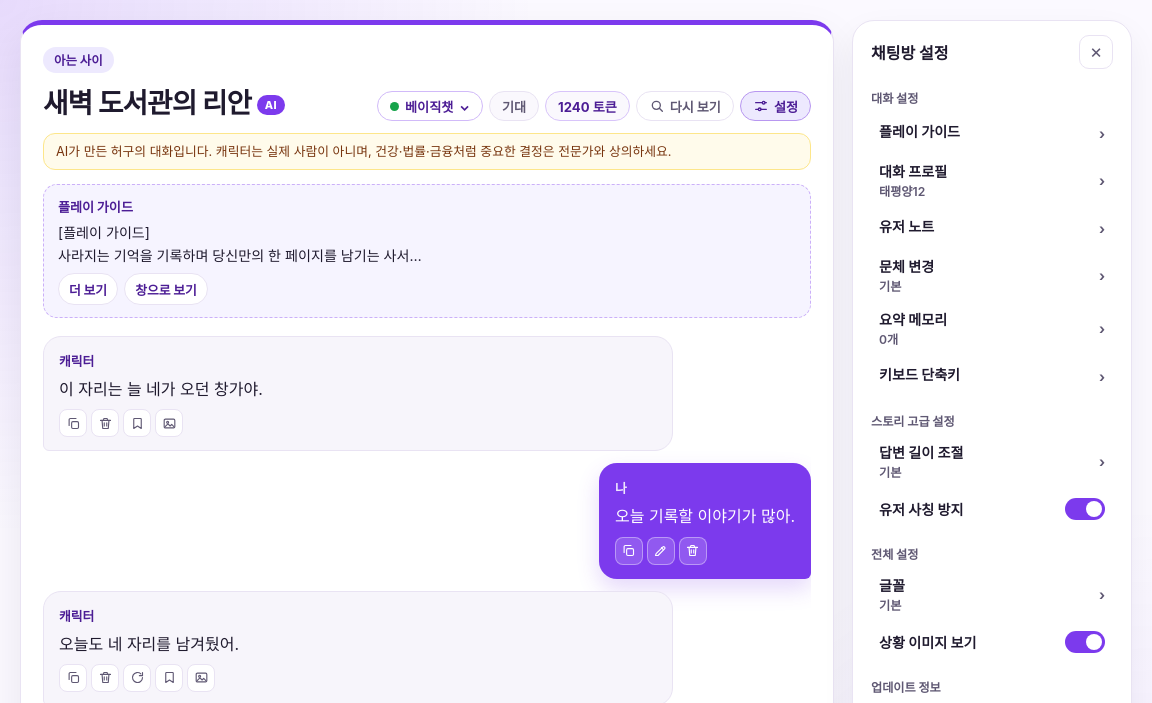
Test: 대화 다시 보기 › 명장면 카드는 답변 글을 고쳐 미리 보고 글을 복사한다
Click the button named "명장면 카드" below "오늘도 네 자리를 남겨뒀어.". click: click(201, 678)
box: [187, 664, 215, 692]
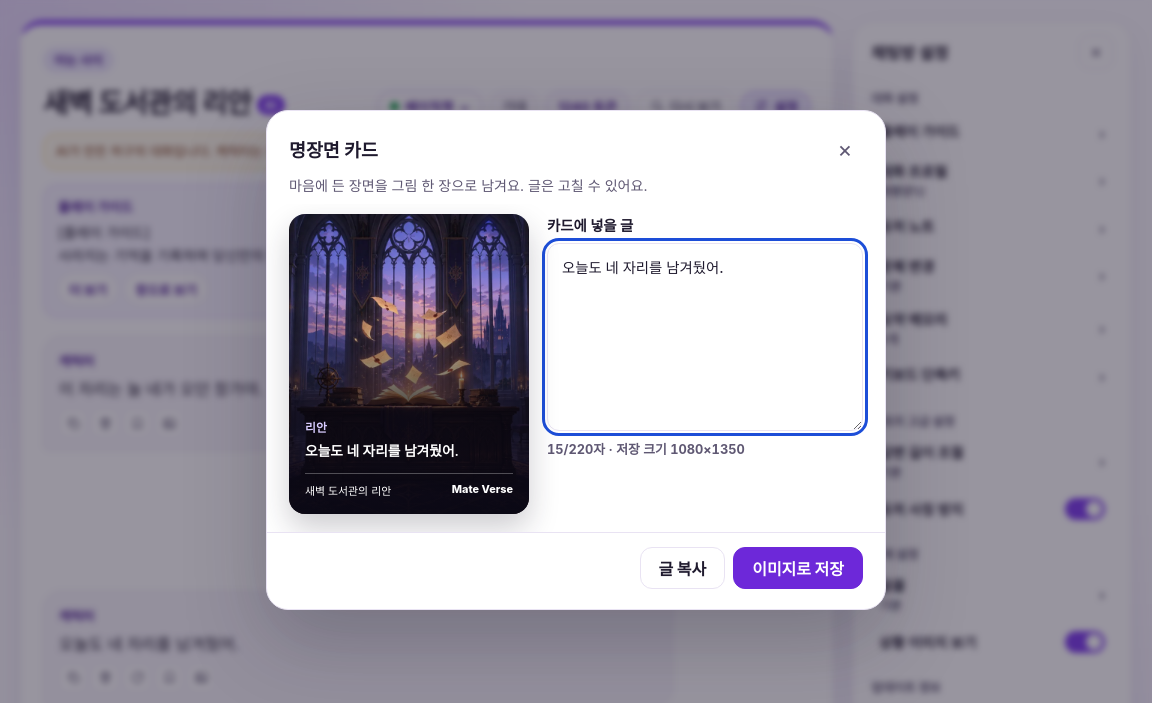
Check: the element named "카드 미리보기" shows "리안", box [305, 421, 327, 435]
Check: the element named "카드 미리보기" shows "오늘도 네 자리를 남겨뒀어.", box [305, 443, 459, 459]
Check: the element named "카드 미리보기" shows "새벽 도서관의 리안", box [305, 484, 391, 498]
Clear the text box labelled "카드에 넣을 글". click: (705, 337)
box: [547, 243, 863, 430]
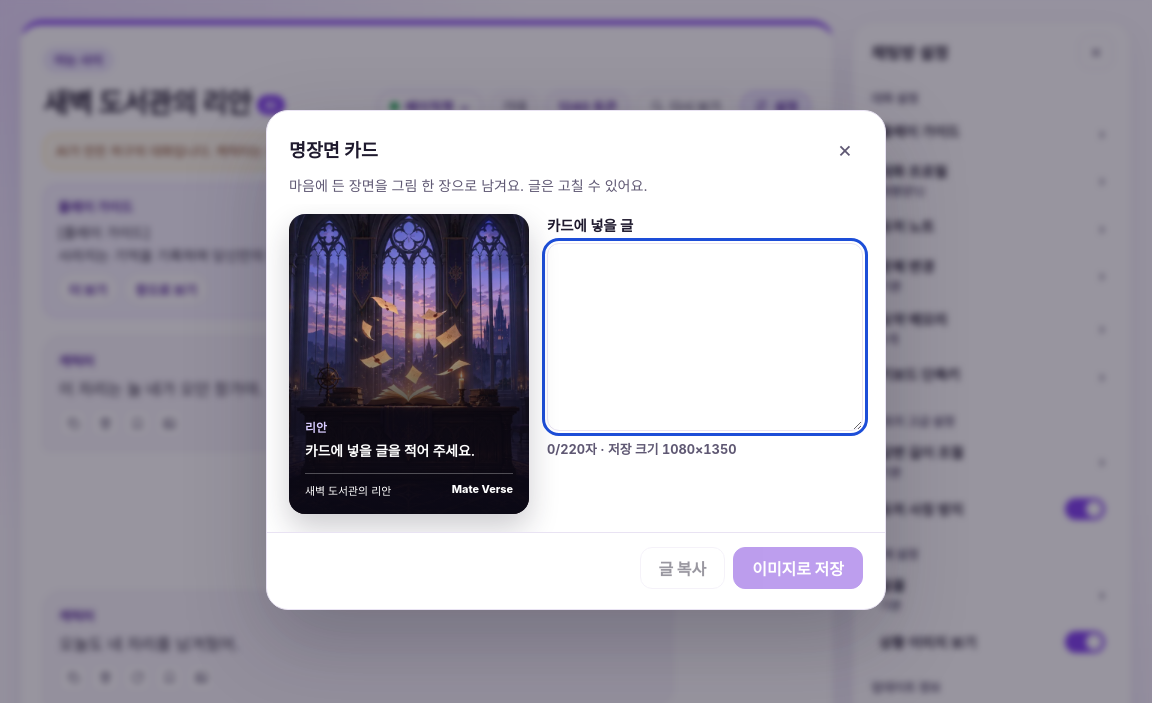
Check: the button "이미지로 저장" is disabled, box [733, 547, 863, 589]
Type "네 자리를 남겨뒀어." into the text box labelled "카드에 넣을 글". click: (705, 337)
box: [547, 243, 863, 430]
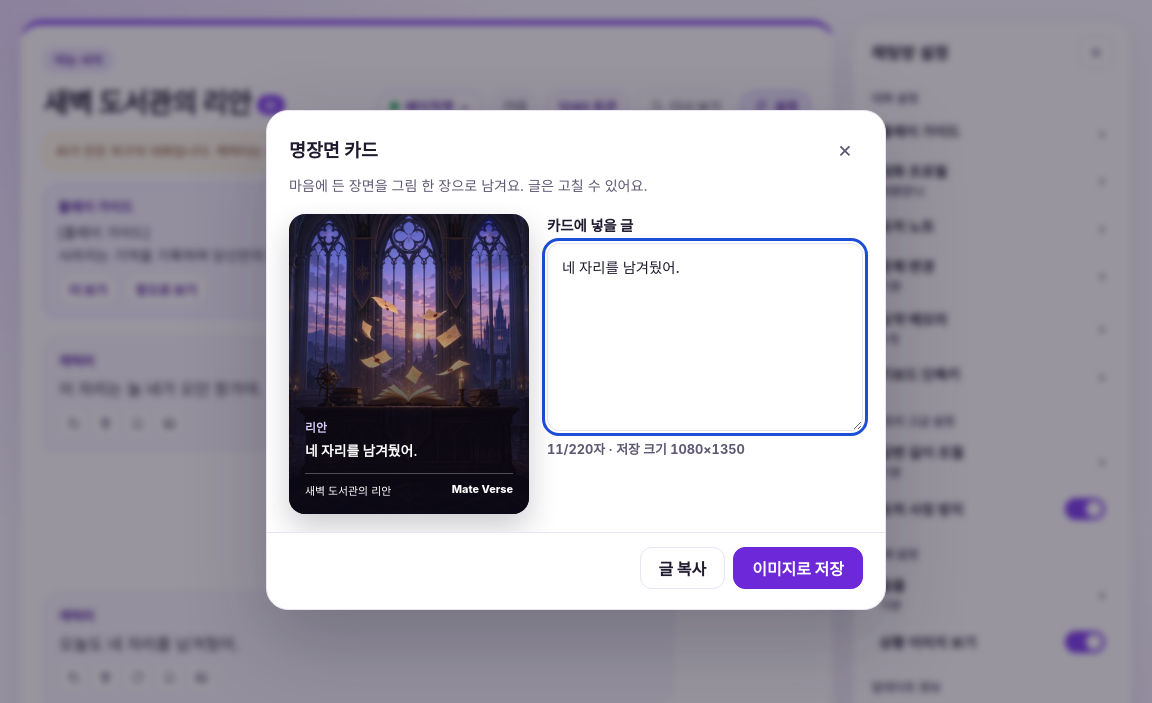
Check: the element named "카드 미리보기" shows "네 자리를 남겨뒀어.", box [305, 443, 418, 459]
Check: the text "11/220자 · 저장 크기 1080×1350" is shown, box [547, 442, 745, 456]
Click the button "글 복사". click: click(682, 568)
box: [640, 547, 725, 589]
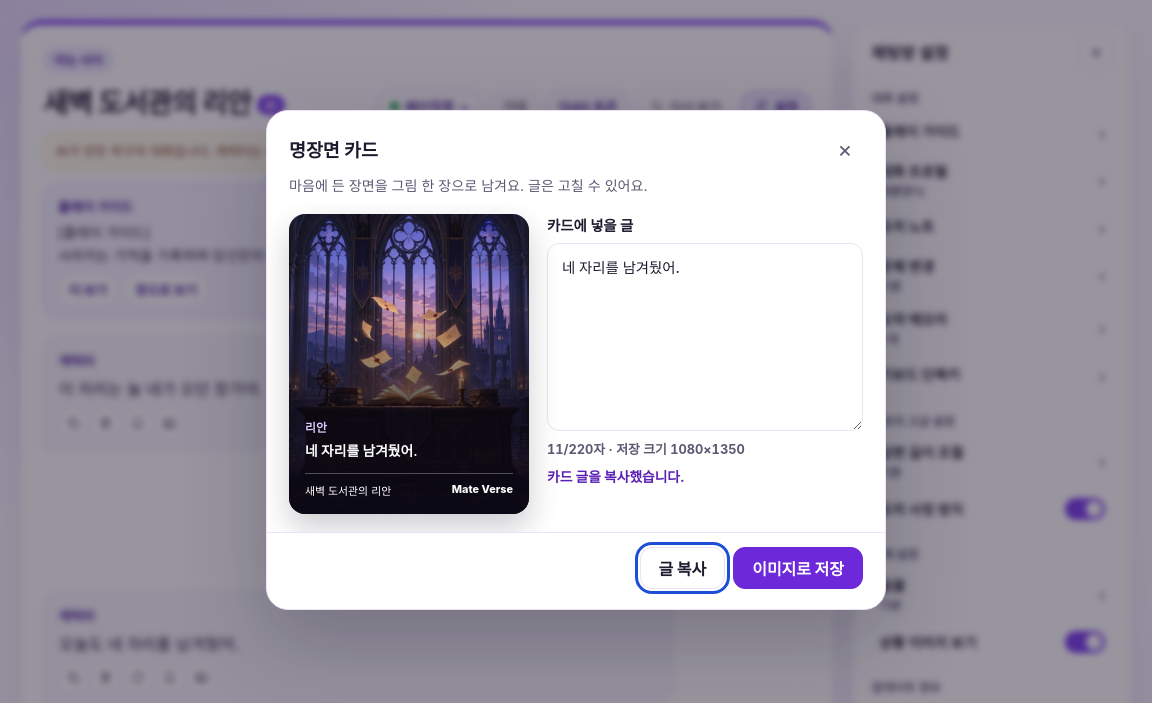
Check: the message named "카드 안내" reads "카드 글을 복사했습니다.", box [547, 468, 685, 484]
Click the button named "명장면 카드 닫기". click: click(845, 149)
box: [827, 131, 863, 167]
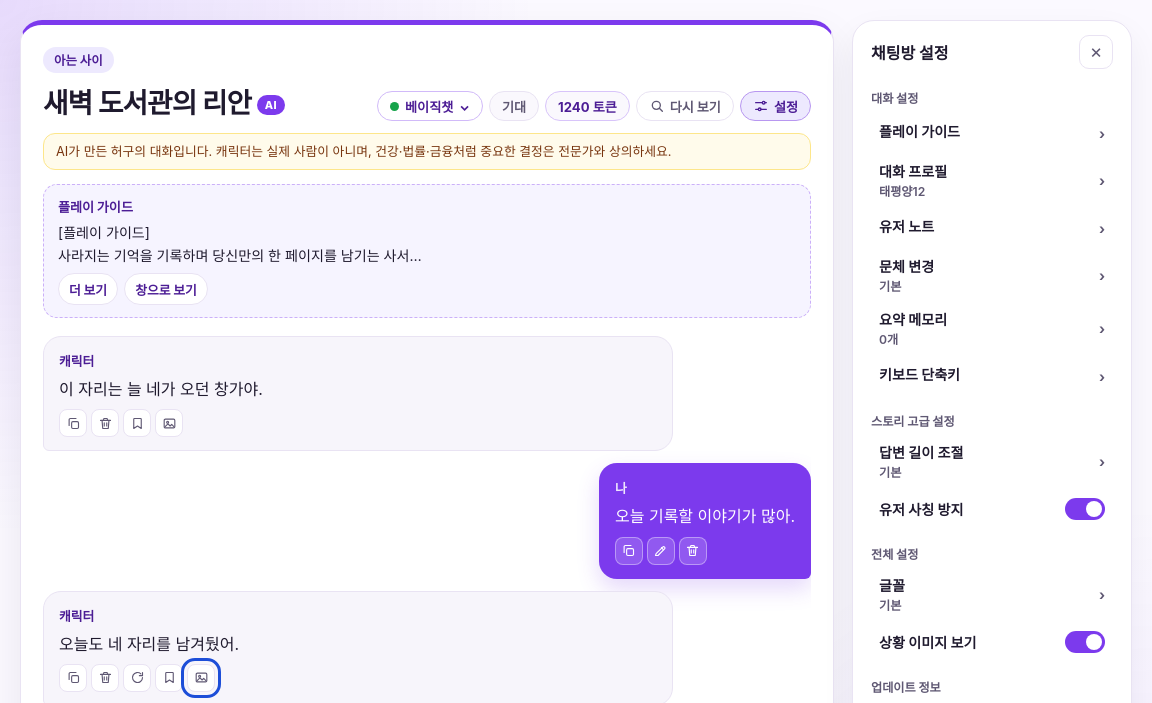
Check: the heading "명장면 카드" is gone
